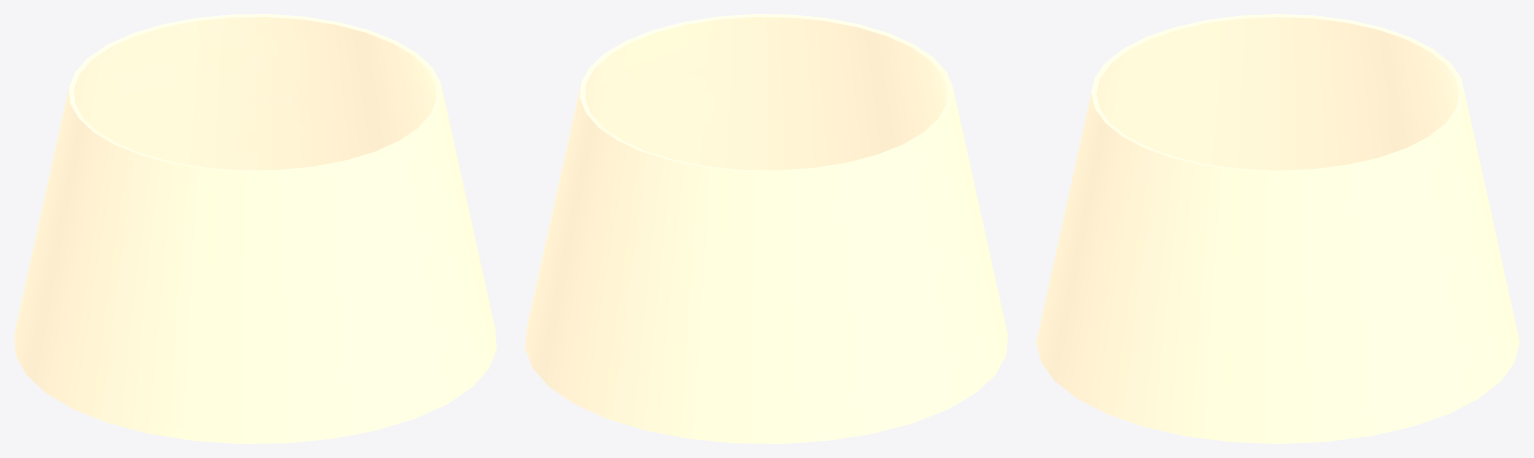
The model's file is table_lamp_shade.glb.
The picture shows the model from 3 angles, left to right: view 1: azimuth 30°, elevation 25°; view 2: azimuth 150°, elevation 25°; view 3: azimuth 270°, elevation 25°; orthographic projection.
Visible parts, largest first — view 1: table_lamp_shade; view 2: table_lamp_shade; view 3: table_lamp_shade.
Boxes of the visible parts, x1,y1,x2,y2 form: table_lamp_shade: (14,14,496,443); table_lamp_shade: (525,14,1007,443); table_lamp_shade: (1036,14,1519,443).
Size of the model in its own units: 0.3696 by 0.2116 by 0.3696.
Materials: 1 (1 with a texture image).
